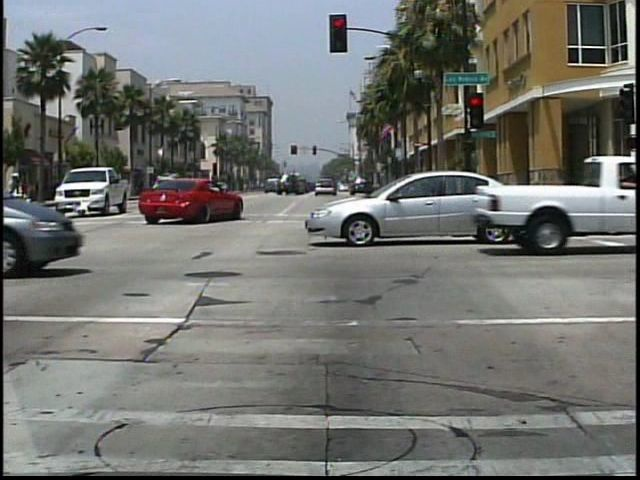person: (5, 170, 38, 225)
